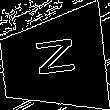N_W: (29, 39, 78, 85)
